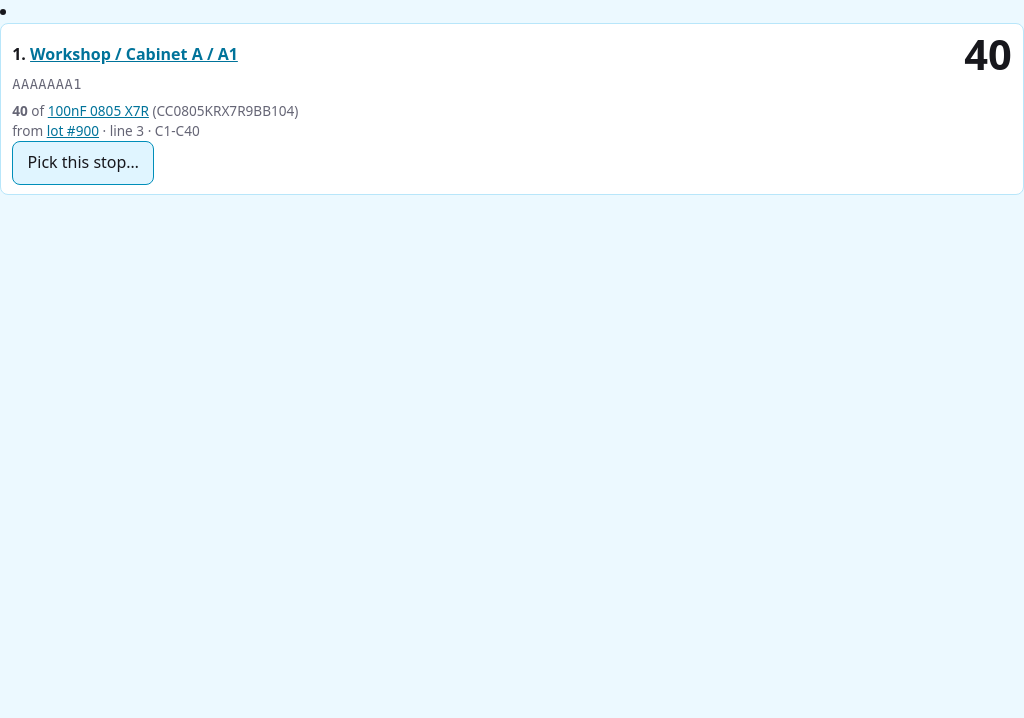
Test case: picking a stop › confirms the right drawer and records exactly what the list asked for
Step 1. Click the button "Pick this stop…" → (83, 163), box [12, 141, 154, 185]
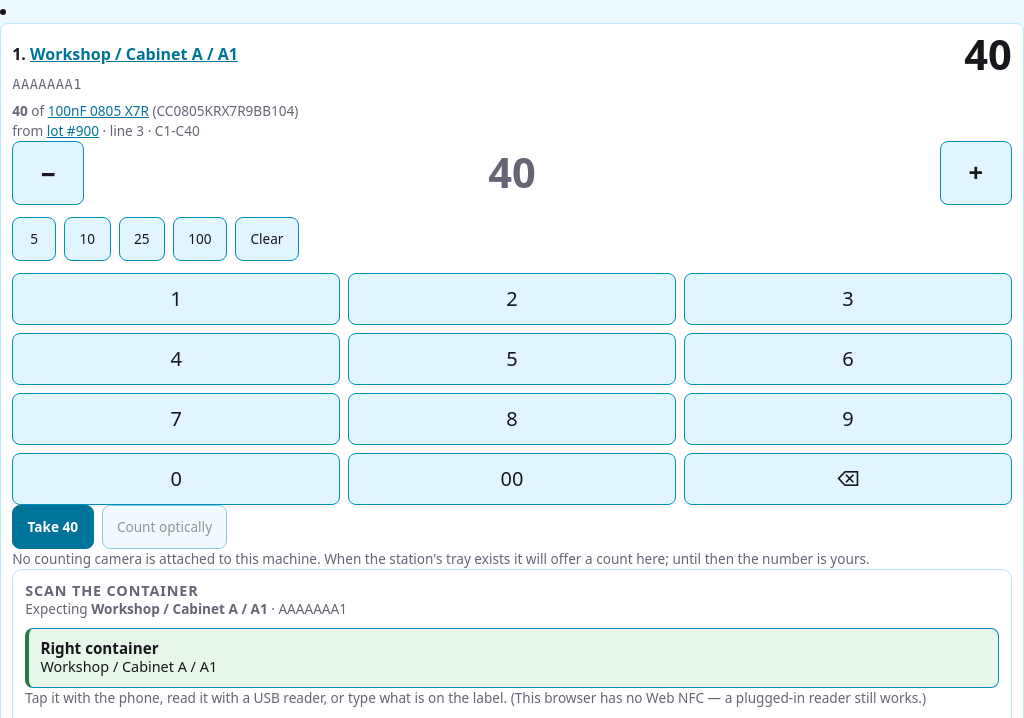
Check: the heading "Right container" is shown, box [40, 638, 159, 658]
# Pre-filled with the planned quantity, so the common case is one press.
Step 2. Click the button "Take 40" → (53, 527), box [12, 505, 94, 549]
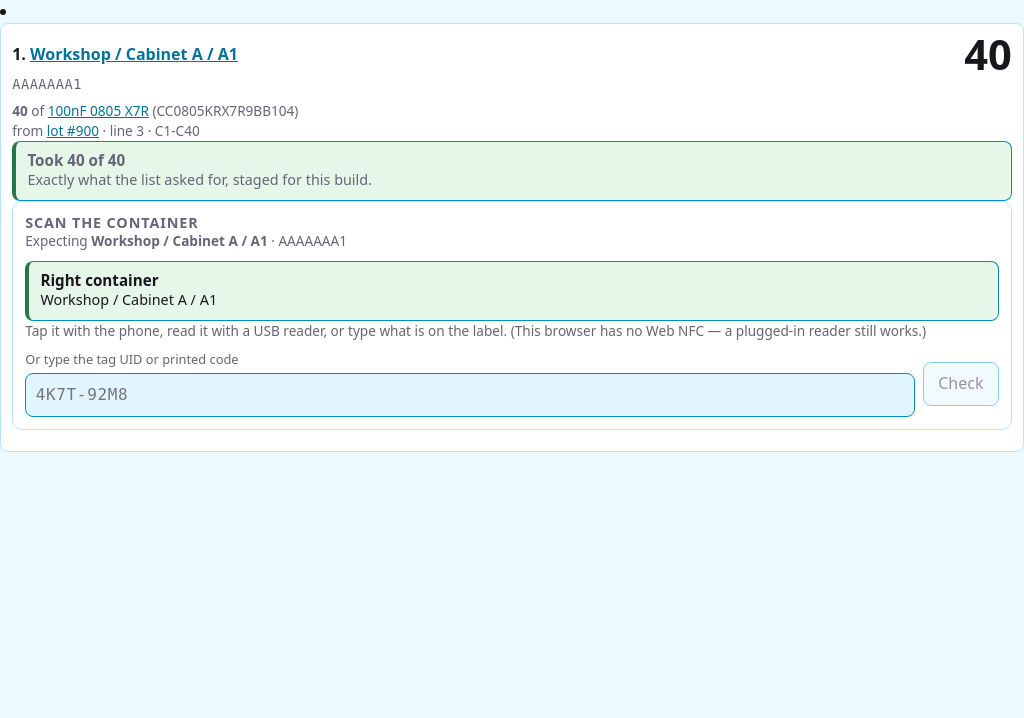
Check: the heading "Took 40 of 40" is shown, box [27, 150, 125, 170]
